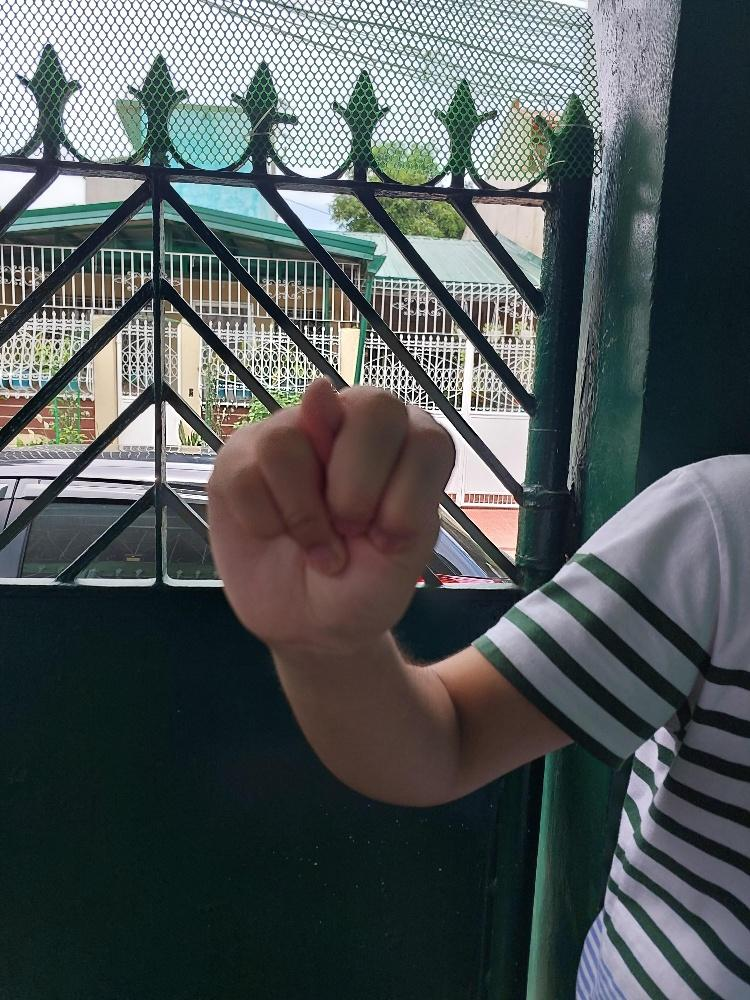n: (203, 372, 458, 661)
